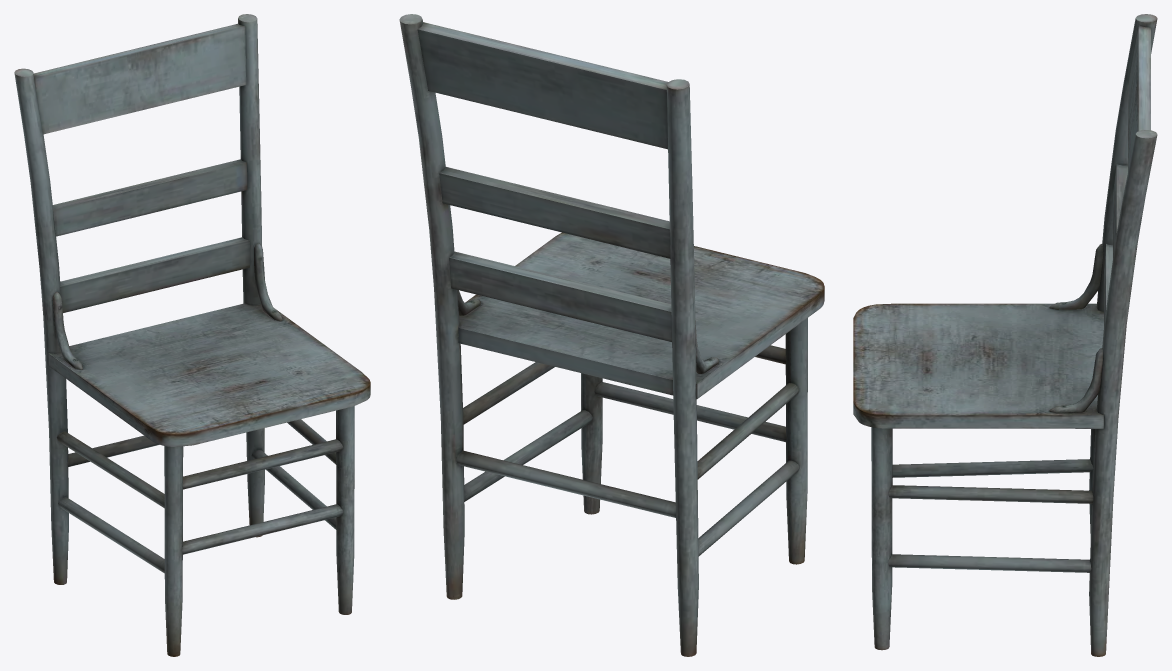
The model's file is painted_wooden_chair_02.glb.
3 renders of one model, left to right at view 1: azimuth 30°, elevation 25°; view 2: azimuth 150°, elevation 25°; view 3: azimuth 270°, elevation 25°, orthographic. The views are drawn at different scales.
Parts seen in each view (by area): view 1: painted_wooden_chair_02; view 2: painted_wooden_chair_02; view 3: painted_wooden_chair_02.
Boxes of the visible parts, box(x1,y1,x2,y2) form: painted_wooden_chair_02: box(14, 14, 370, 656); painted_wooden_chair_02: box(399, 14, 824, 656); painted_wooden_chair_02: box(853, 14, 1157, 656).
Bounding box in the file's own units: 0.6394 × 1.26 × 0.6606.
Materials: 1 (1 with a texture image).
